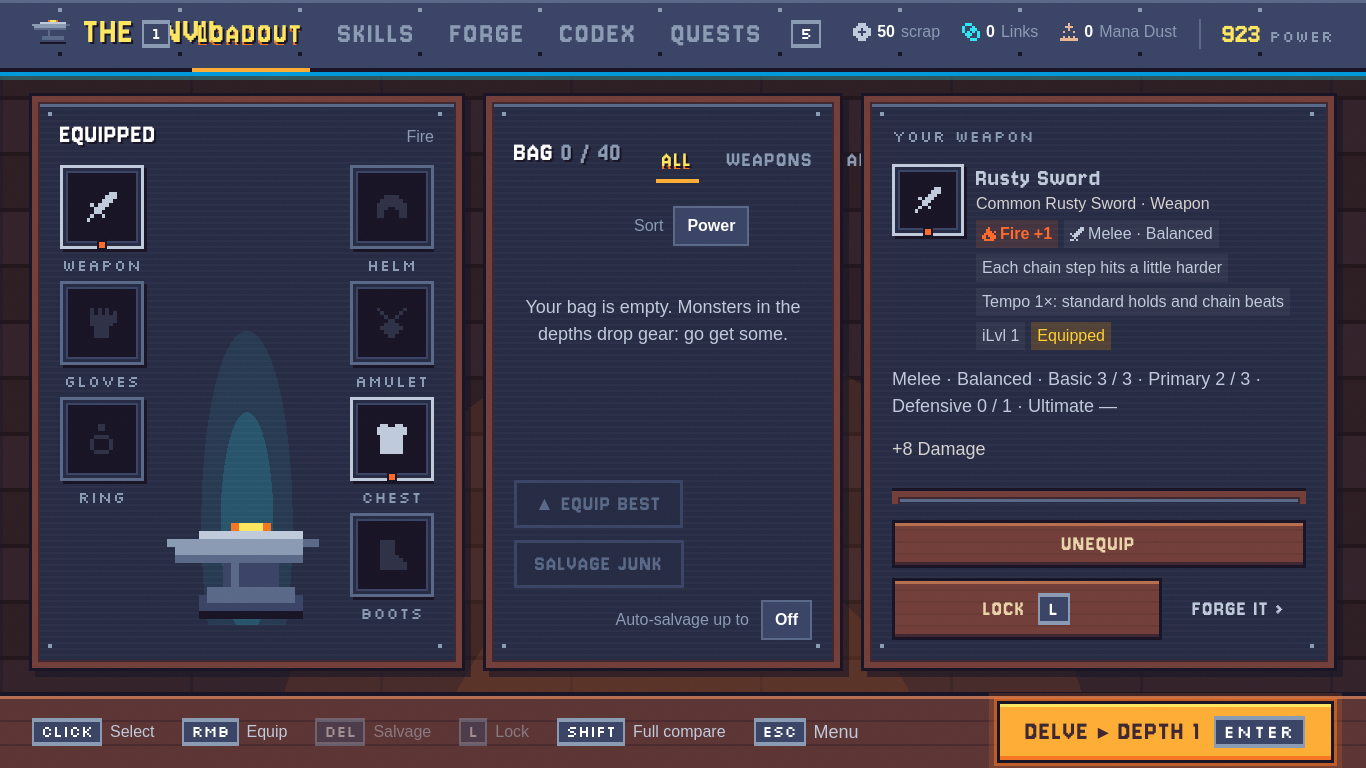
Scenario: AnvilHub › on Skills the Apply bar replaces the footer's group, with one Delve button
This screenshot has width=1366, height=768.
Click the tab with test id "tab-skills".
click(377, 36)  # box [332,0,422,72]
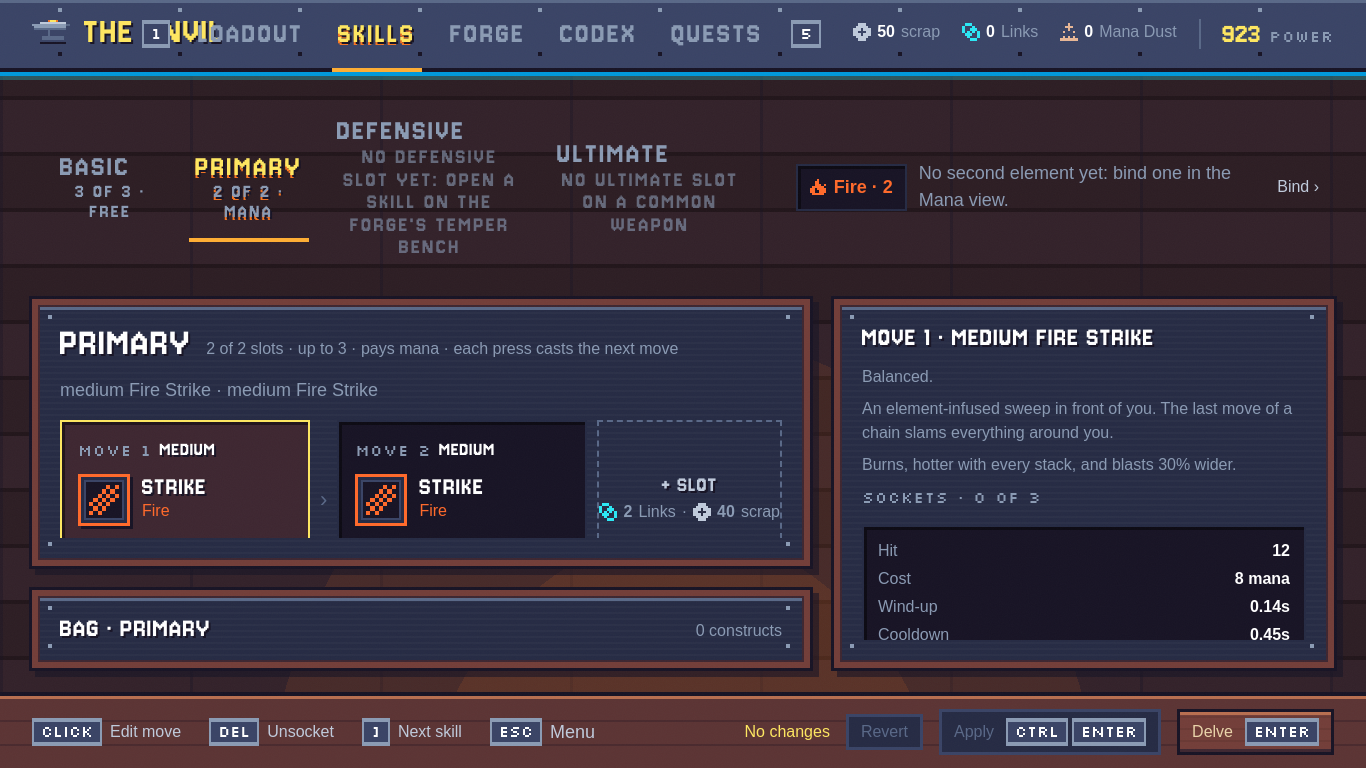
Check: the number of buttons with test id "depart-button" is 1, box [1177,709,1334,755]
Check: the element with test id "chain-draft" is shown, box [744,709,1334,755]
Click the tab with test id "tab-forge".
click(488, 36)  # box [444,0,532,72]
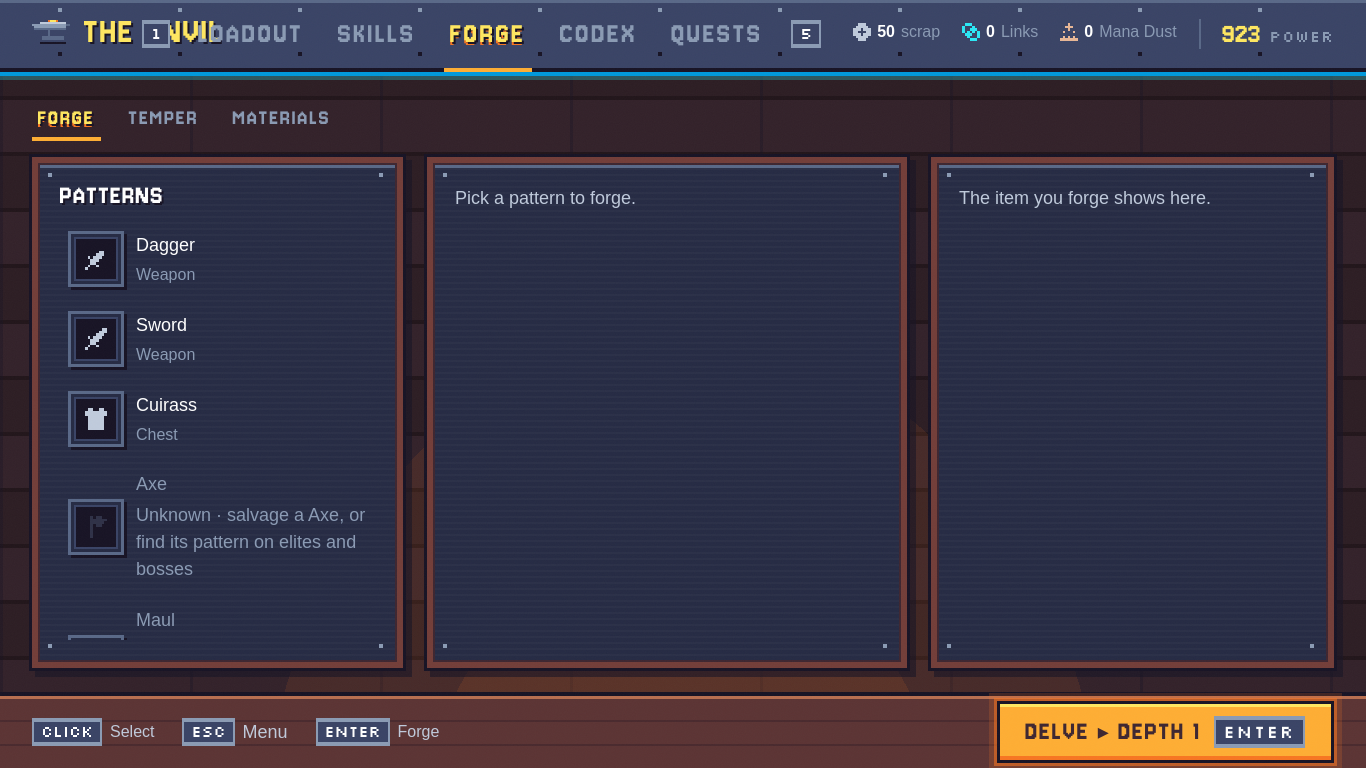
Check: the element with test id "chain-draft" is gone
Click the button with test id "depart-button".
click(1165, 732)  # box [996,701,1334,763]
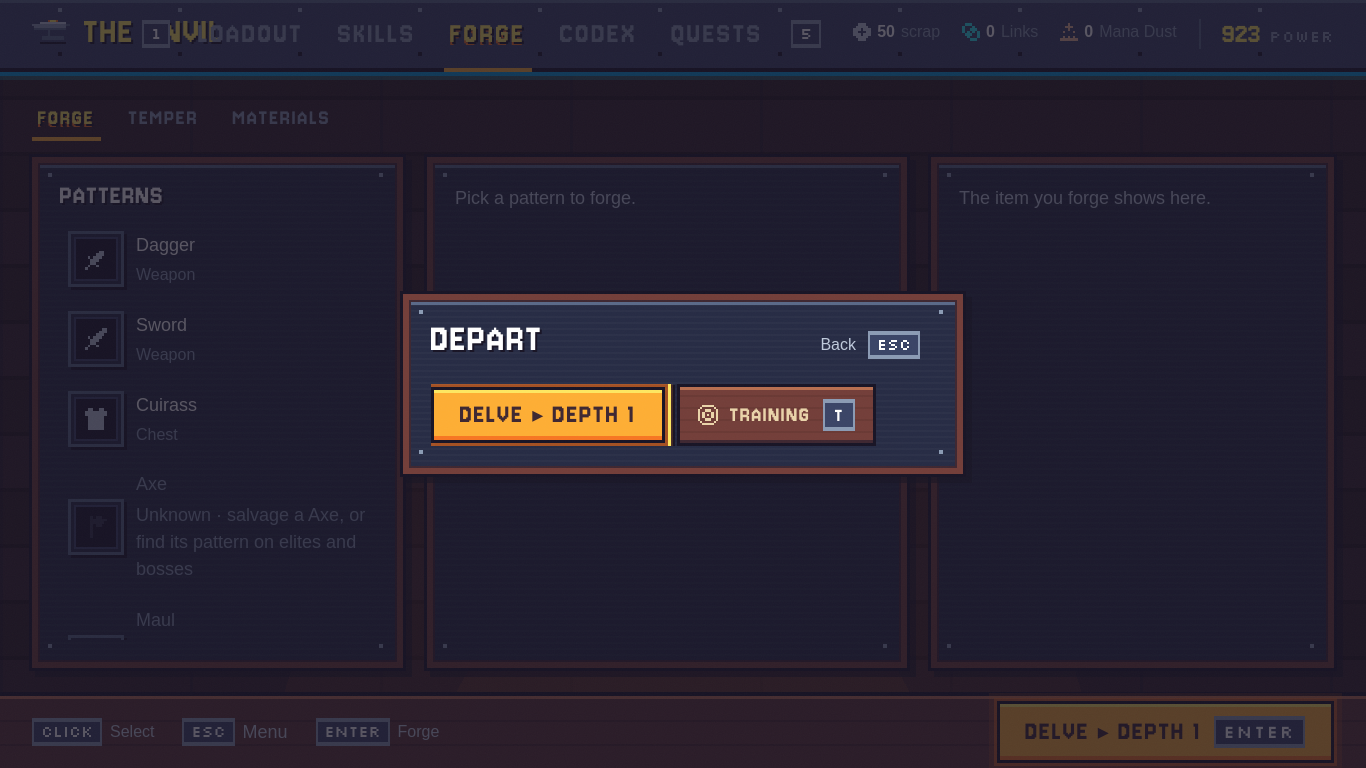
Check: the button with test id "training-button" is shown, box [677,384,876,446]
